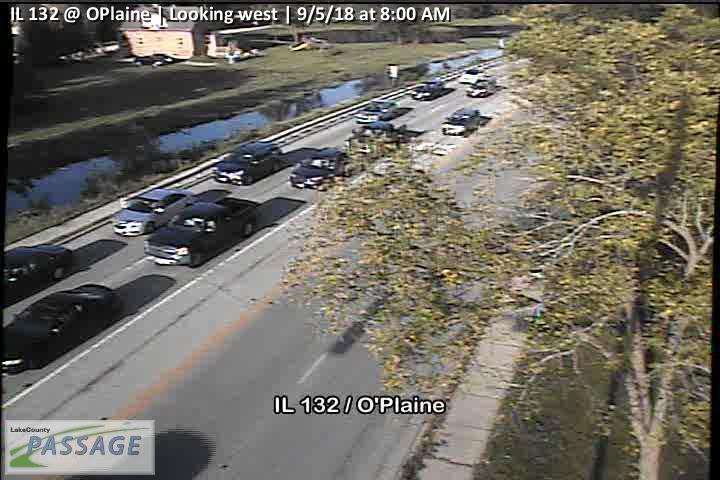SUV: (215, 142, 282, 186), (290, 147, 352, 189), (355, 99, 398, 124), (442, 108, 480, 135), (460, 65, 484, 84)
Sedan: (1, 283, 119, 373), (1, 245, 72, 309), (111, 187, 193, 236), (411, 79, 444, 102)
Truck: (144, 198, 257, 267), (468, 75, 496, 97)
